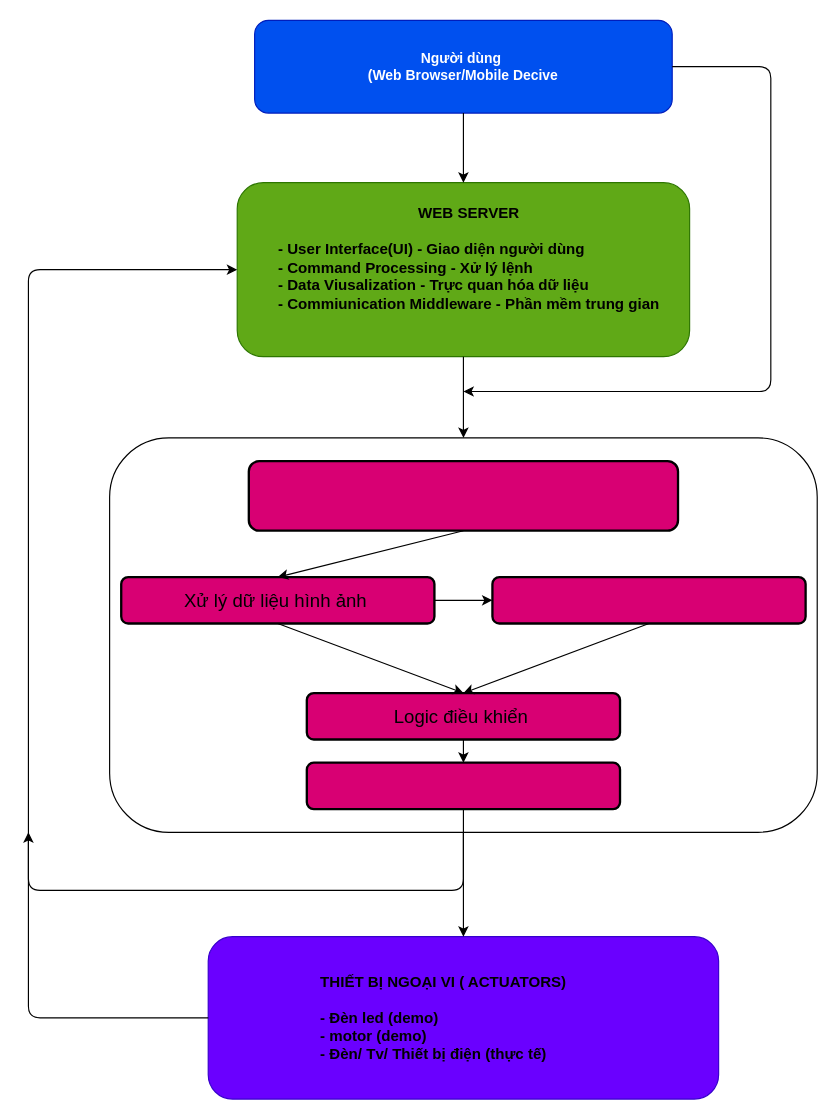
The diagram is 838 pixels wide and 1119 high, and some of its shapes have lost their labels. The box of each missing label's shape, as (x1, y1, x2, y2) in pixels:
Camera Module Thu thập dữ liệu hình ảnh: (247, 459, 679, 531)
Giao tiếp mạng: (305, 761, 621, 810)
Nhận dạng cử chỉ: (491, 575, 806, 624)
